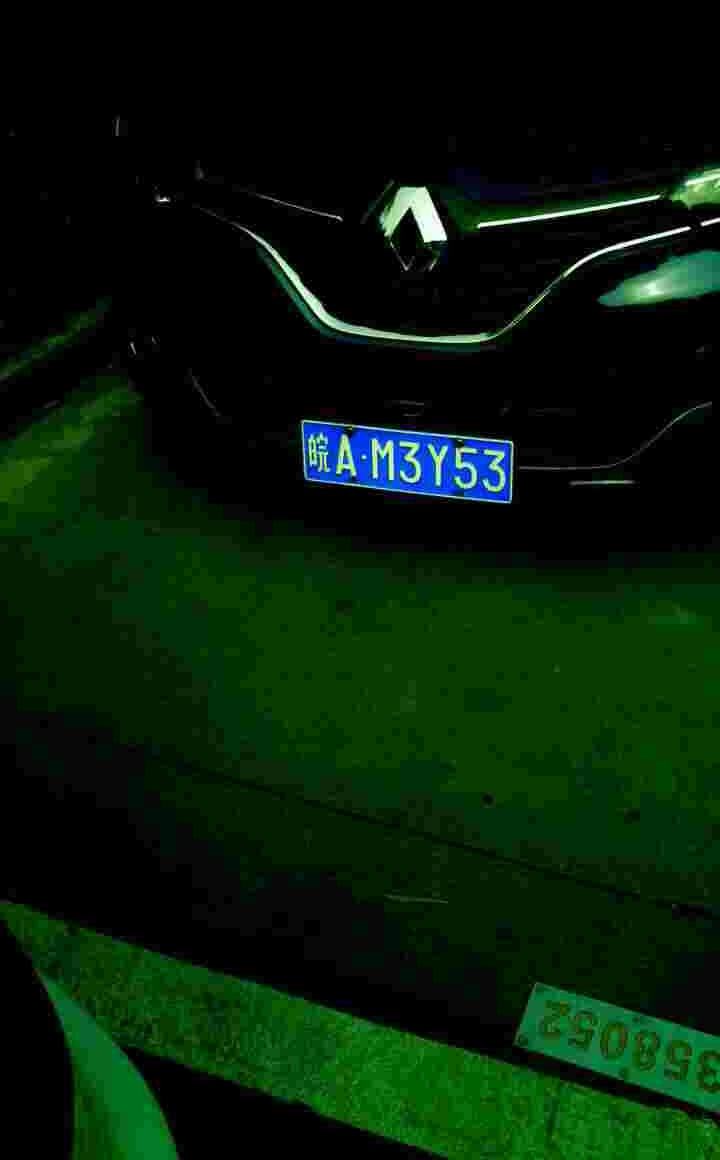plate: (301, 416, 517, 508)
